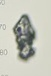microplastic: (12, 14, 35, 61)
